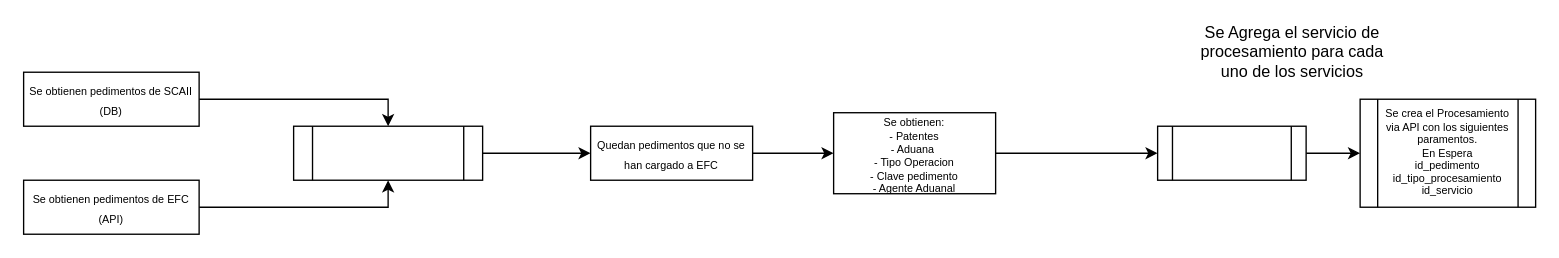
Image size: 1559x258. Some labels were removed from this diagram. The shapes that lost their labels are listed below. From the top down, each one's centre as x and y in pixels, then its label:
pixel 387 152: Se eliminan Pedimentos en Comun
pixel 1231 152: Se suben utilizando la API de EFC
